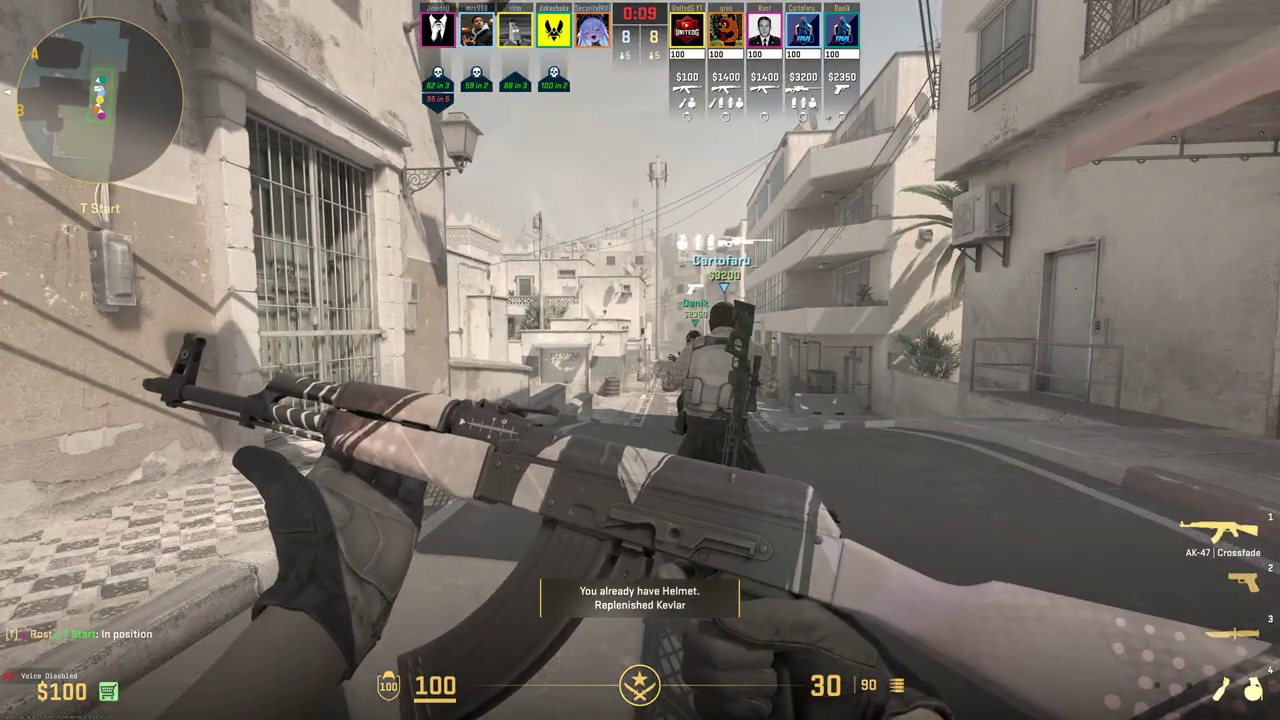Terrorist: (673, 302, 766, 465)
